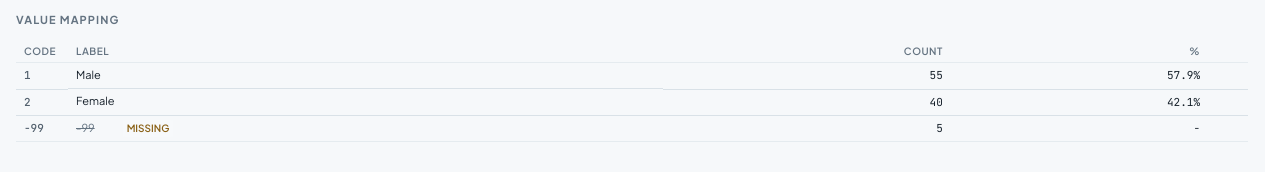
Test: InspectorStats interactions › enters inline edit mode when label is clicked
Click the text "Male": [88, 75] box [76,66,101,84]
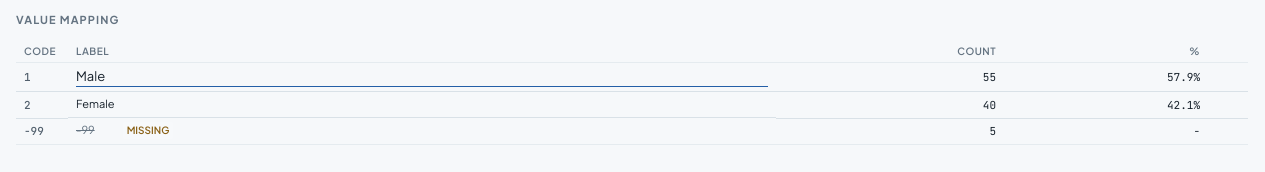
Expected: the field is shown, [76,66,768,87]
